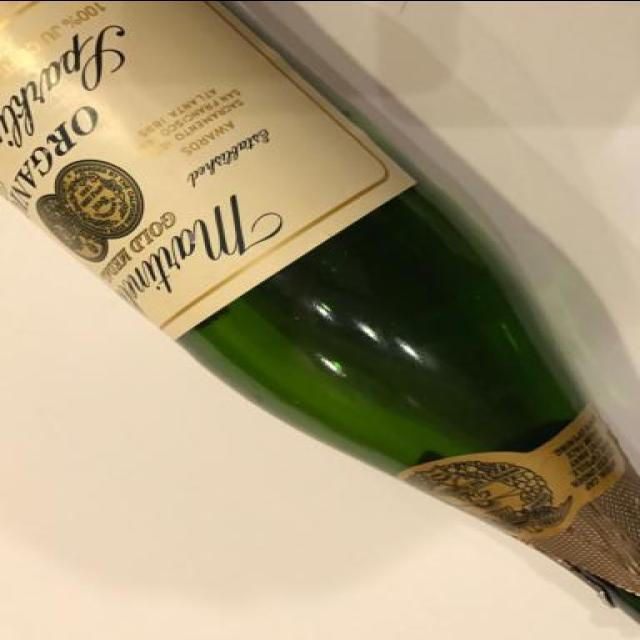litter: (0, 2, 638, 628)
